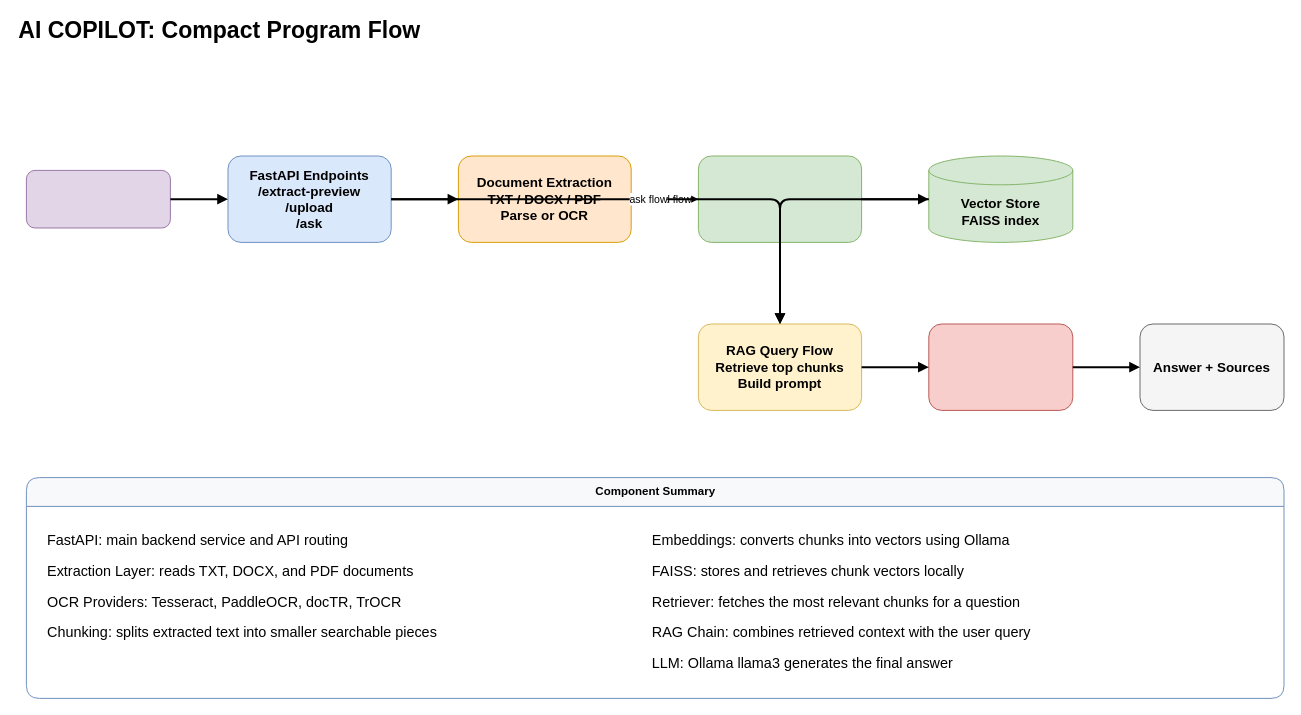
Image size: 1301x715. Some labels were removed from this diagram. Each missing label, with the centre of its shape:
"Ingestion Chunk text Create embeddings" belongs at (x=779, y=198).
"Ollama llama3 Generate answer" belongs at (x=1000, y=366).
"User / Frontend" belongs at (x=97, y=198).
